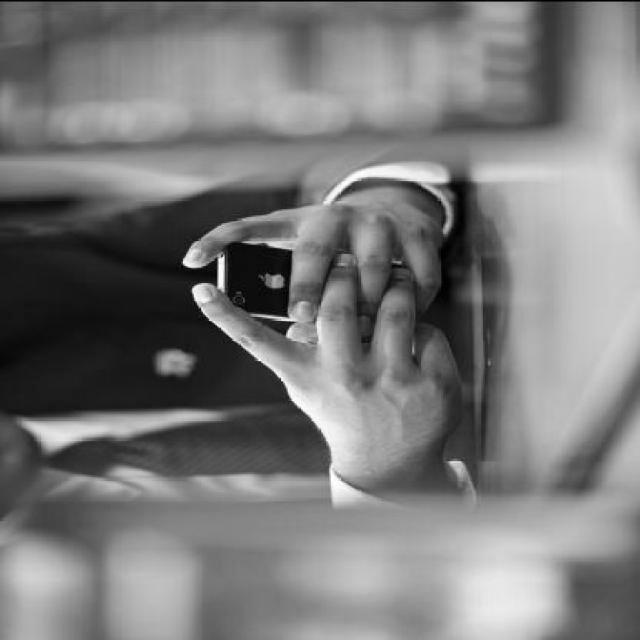fake: (218, 238, 406, 318)
